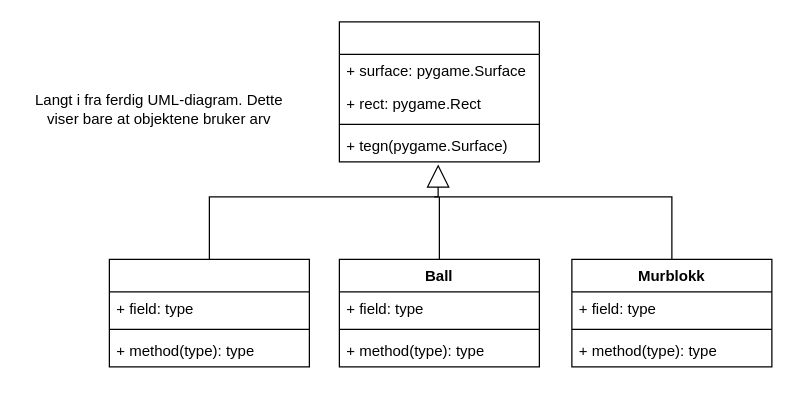
Some shapes in this 794 by 393 pixel diagram are drawn without their labels. Each missing label, with the box of its shape:
Racket: (108, 258, 309, 367)
Spillobjekt: (338, 21, 539, 162)
